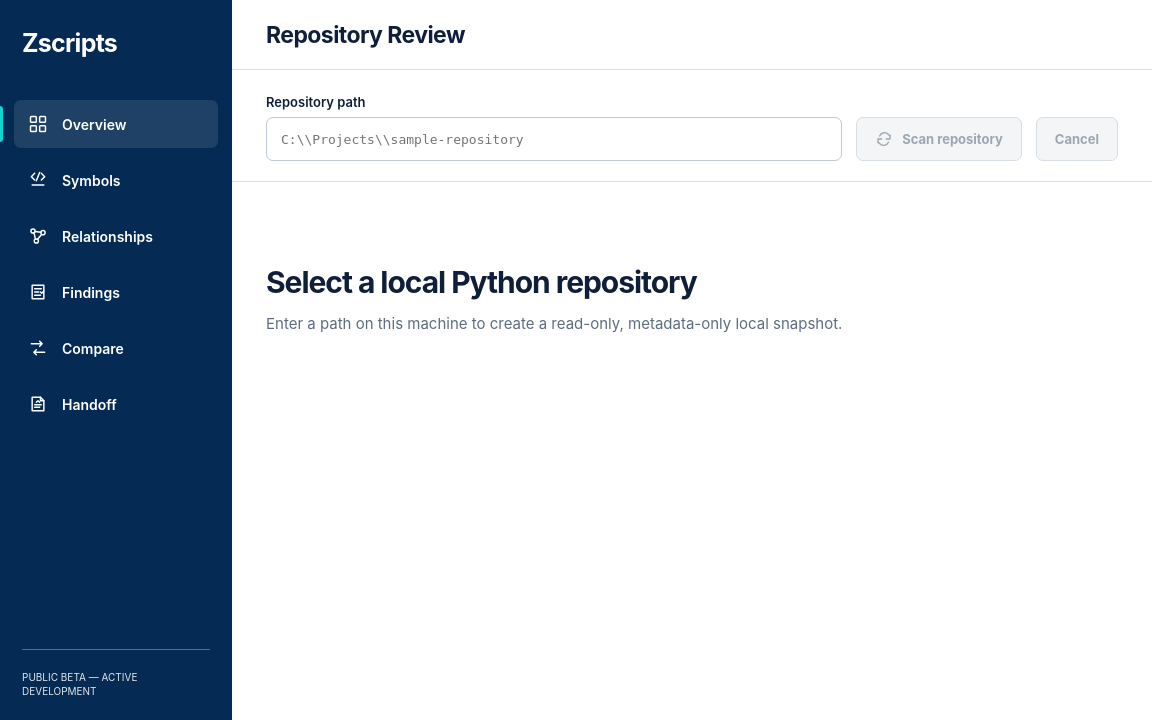
Test: App › cancels a pending scope without starting analysis and returns focus to the path
The width and height of the screenshot is (1152, 720).
Type "alias\\feature" into the field labelled "Repository path" at [554, 139], box top-left (266, 117), bottom-right (842, 161)
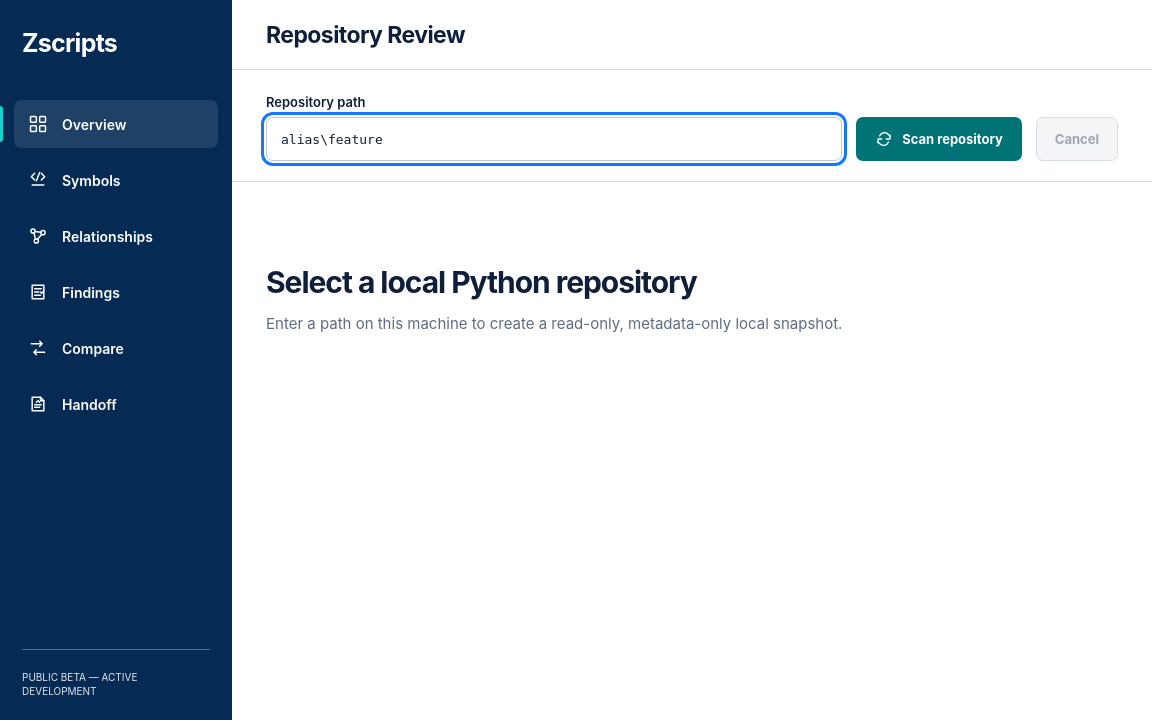
Click the button "Scan repository" at [939, 139], box top-left (856, 117), bottom-right (1022, 161)
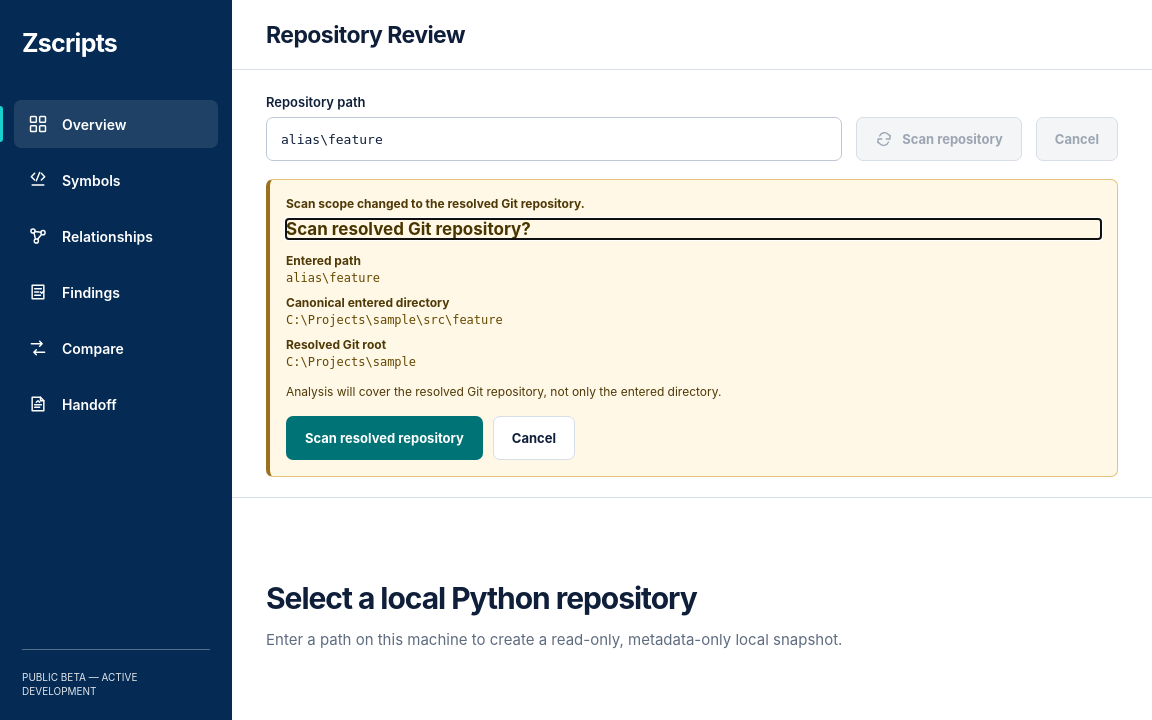
Click the button "Cancel" below "Resolved Git root" at [534, 438], box top-left (493, 416), bottom-right (575, 460)
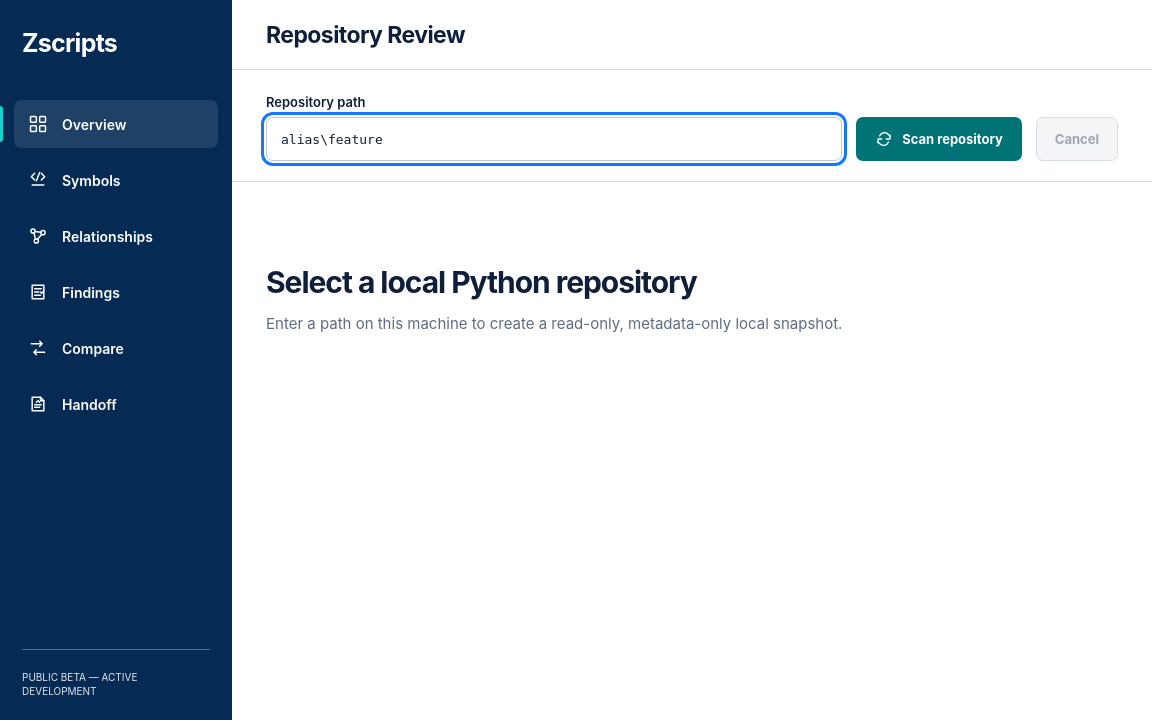
Check: the dialog is gone
